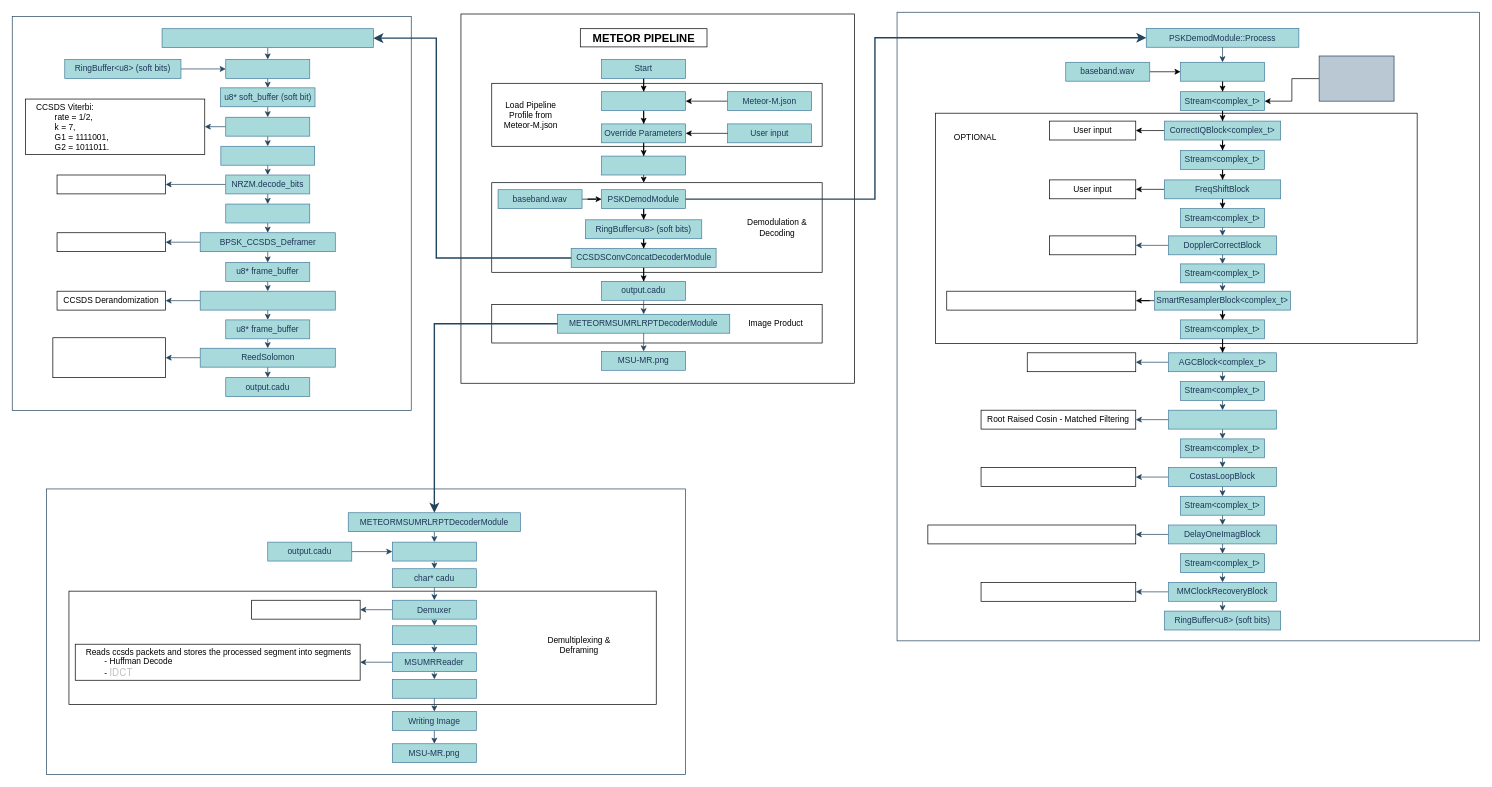
The diagram is 1492 pixels wide and 787 high, and some of its shapes have lost their labels. The centre of each missing label's shape, as x and y in pixels:
"Automatic Gain Control" belongs at (1081,362).
"CCSDS Deframe" belongs at (111,242).
"CCSDS Reed Solomon: - i = 5, - type = 223" belongs at (109,357).
"CCSDSConvConcatDecoderModule::process" belongs at (267,38).
"CCSDSPacket" belongs at (434,635).
"complex_t { f32 real; f32 imag; }" belongs at (1356,78).
"Costas Loop - Phase-Locked Loop" belongs at (1058,476).
"Delay the I branch by one sample - OQPSK" belongs at (1031,534).
"Demultiplexing" belongs at (305,609).
"derand_ccsds" belongs at (267,300).
"FileSourceBlock" belongs at (1222,71).
"FIRBlock<complex_t>" belongs at (1222,419).
"input_sps > MAX_SPS || input_sps < MIN_SPS" belongs at (1041,300).
"Load Pipeline" belongs at (643,101).
"Not use" belongs at (1092,245).
"NRZM Decoding" belongs at (111,184).
"Pipeline::run" belongs at (643,165).
"Read Buff" belongs at (267,68).
"Read file" belongs at (434,551).
"Real Clock Recovery" belongs at (1058,591).
"Segment (raw img)" belongs at (434,688).
"u8* viterbi_out" belongs at (267,213).
"u8* viterbi_out (hard bit)" belongs at (267,155).
"Viterbi1_2" belongs at (267,126).
